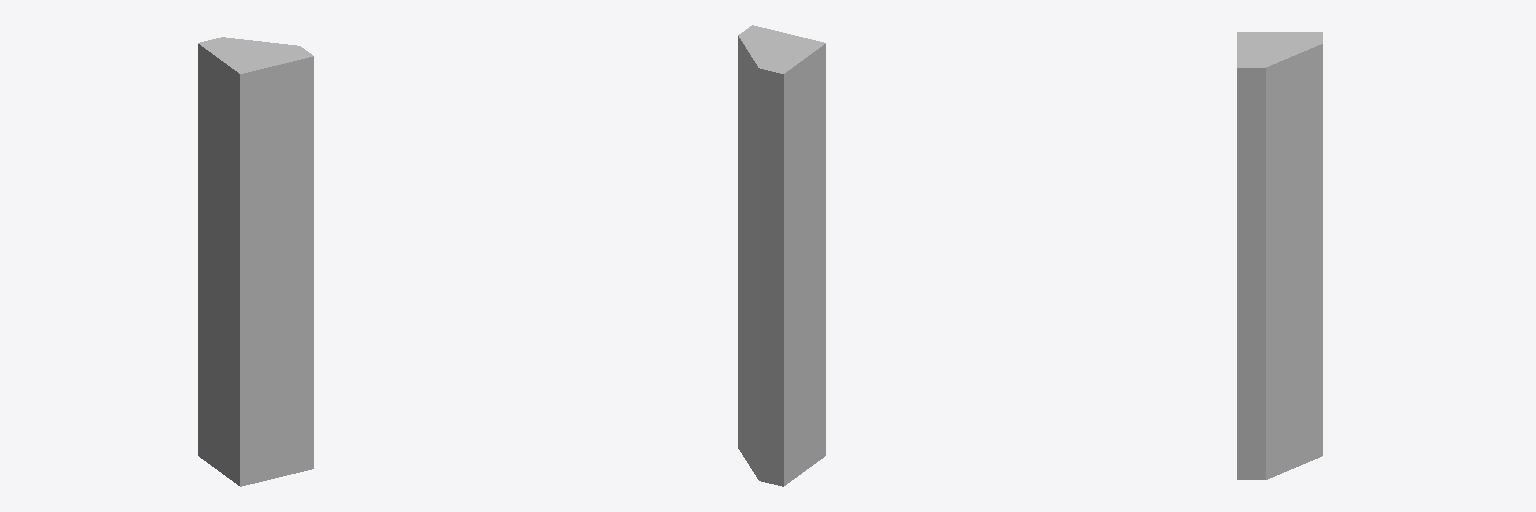
Rendered from blank_debris.obj.
3 renders of one model, left to right at view 1: azimuth 30°, elevation 25°; view 2: azimuth 150°, elevation 25°; view 3: azimuth 270°, elevation 25°, orthographic.
Visible parts, largest first — view 1: Column; view 2: Column; view 3: Column.
Boxes of the visible parts, x1=… form: Column: x1=198, y1=37, x2=313, y2=486; Column: x1=738, y1=25, x2=825, y2=486; Column: x1=1237, y1=32, x2=1322, y2=479.
Bounding box in the file's own units: 0.1875 × 1 × 0.1875.